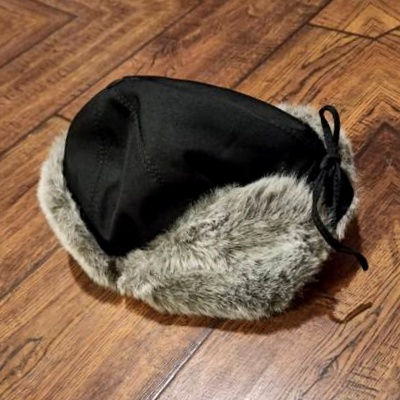Hat: (1, 36, 393, 358), (390, 0, 400, 312)
